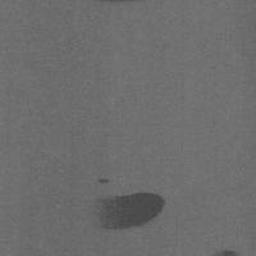Oil spot: (76, 191, 168, 236), (92, 0, 150, 4), (95, 175, 111, 186)
